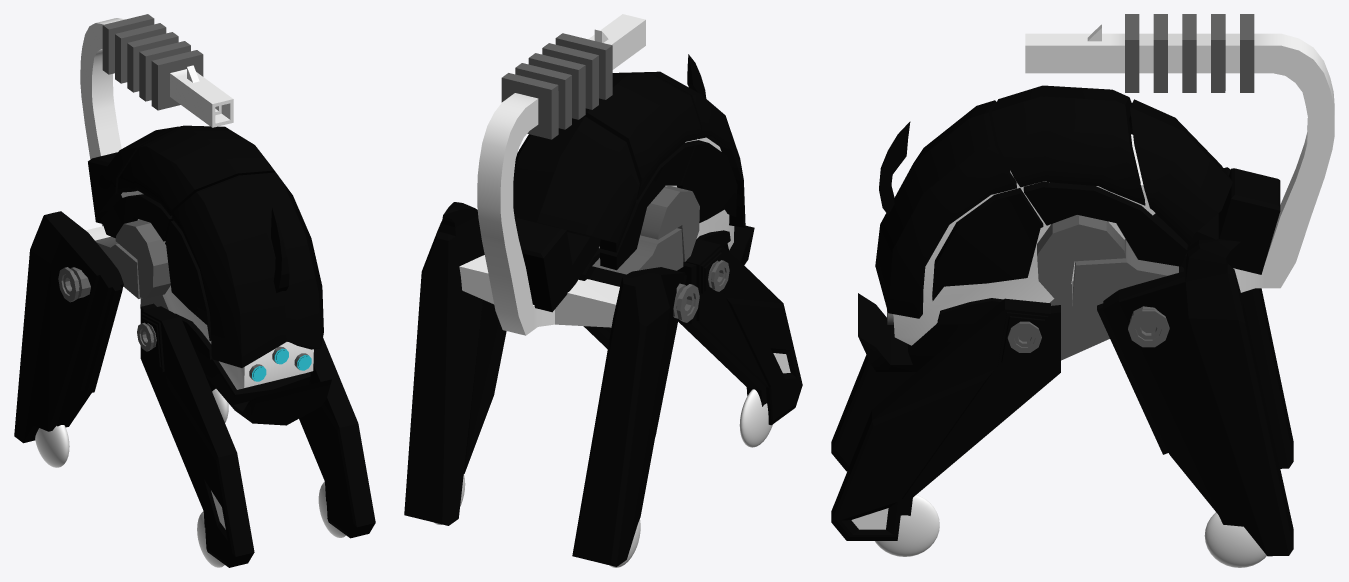
The model's file is monster2_anotherColor (1).fbx.
3 views of the same model, side by side, from view 1: azimuth 30°, elevation 25°; view 2: azimuth 150°, elevation 25°; view 3: azimuth 270°, elevation 25° (orthographic). The views are drawn at different scales.
Visible parts, largest first — view 1: Cube.001, Cube.006, Cube.007, Cube.002, Sphere.002, Cube, Sphere; view 2: Cube.001, Cube.008, Cube.006, Cube.007, Sphere; view 3: Cube.001, Cube.008, Cube.002, Cube.006, Cube.007, Sphere.001, Sphere.003, Cube.
Boxes of the visible parts, x1=… form: Cube.001: x1=80, y1=14, x2=331, y2=425; Cube.006: x1=14, y1=211, x2=123, y2=443; Cube.007: x1=137, y1=303, x2=254, y2=567; Cube.002: x1=299, y1=338, x2=375, y2=538; Sphere.002: x1=35, y1=425, x2=69, y2=467; Cube: x1=271, y1=207, x2=289, y2=292; Sphere: x1=197, y1=511, x2=224, y2=567; Cube.001: x1=459, y1=14, x2=754, y2=335; Cube.008: x1=404, y1=202, x2=506, y2=525; Cube.006: x1=572, y1=267, x2=699, y2=566; Cube.007: x1=677, y1=239, x2=802, y2=425; Sphere: x1=739, y1=389, x2=772, y2=447; Cube.001: x1=858, y1=14, x2=1334, y2=371; Cube.008: x1=1097, y1=239, x2=1293, y2=556; Cube.002: x1=831, y1=298, x2=1060, y2=540; Cube.006: x1=1223, y1=167, x2=1293, y2=468; Cube.007: x1=831, y1=355, x2=915, y2=471; Sphere.001: x1=875, y1=495, x2=939, y2=556; Sphere.003: x1=1204, y1=512, x2=1266, y2=567; Cube: x1=879, y1=121, x2=910, y2=215.
Bounding box in the file's own units: 547 × 1072 × 986.
Materials: 1 (1 with a texture image).
